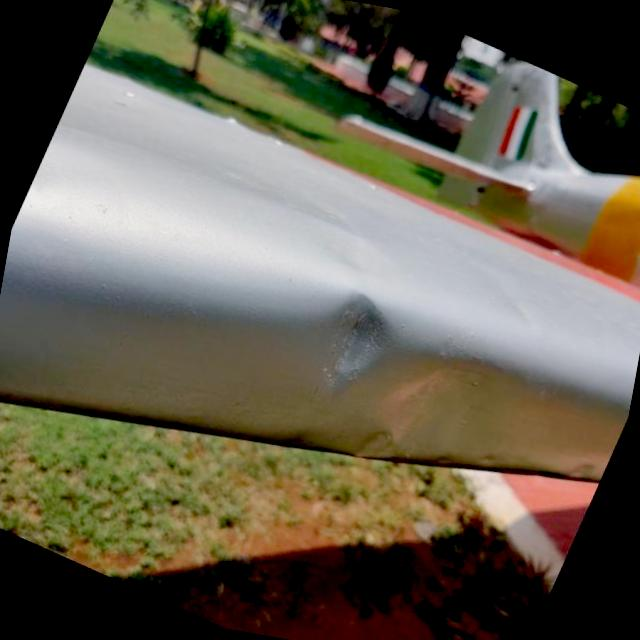dent: (344, 321, 514, 477), (314, 288, 396, 393)
